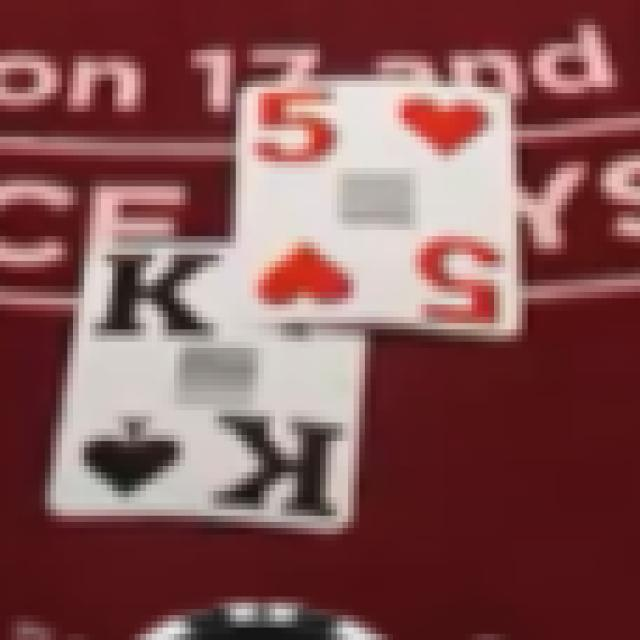Card-5: (238, 86, 516, 337)
Card-K: (54, 234, 364, 525)
